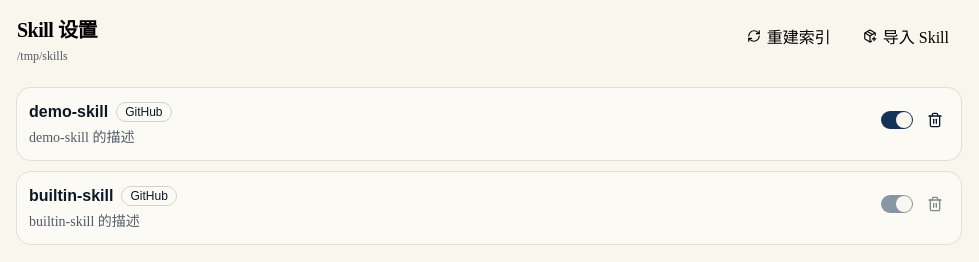
skillManage 删除二次确认 › 「导入 Skill」按钮展开菜单，包含 ZIP 文件与 GitHub 仓库两个入口
This screenshot has width=979, height=262.
Click the button "导入 Skill": {"x": 906, "y": 36} left=851, top=16, right=961, bottom=56
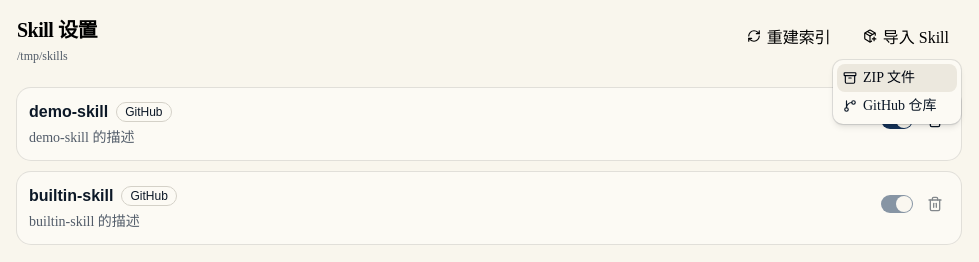
Expected: the menu item "ZIP 文件" is shown, left=837, top=64, right=957, bottom=92
Expected: the menu item "GitHub 仓库" is shown, left=843, top=98, right=936, bottom=113
